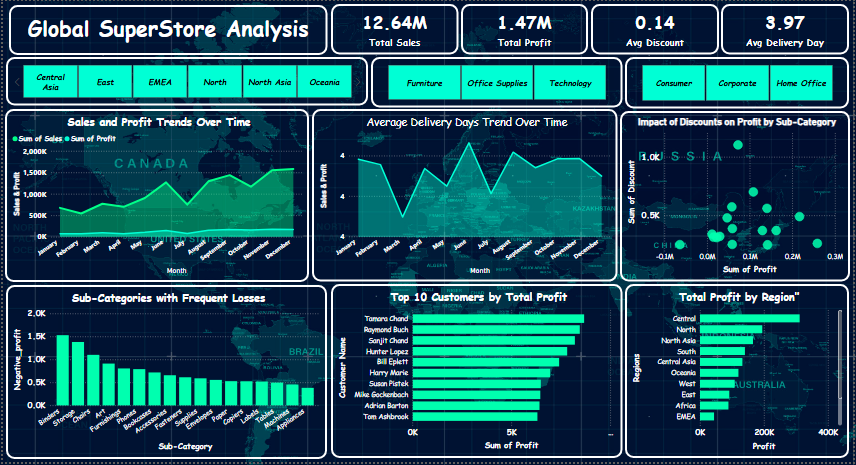

The page's visual inventory and layout, read from the dashboard file:
{"tool":"powerbi","page":{"name":"Page 1","canvas":[1700,921],"ordinal":0},"visuals":[{"type":"textbox","box":[11.2,7.5,636.7,100],"z":0},{"type":"card","fields":{"Values":["store.Total Sales"]},"box":[655,6,255,100.8],"z":1000},{"type":"areaChart","title":"Sales and Profit Trends Over Time","fields":{"Category":["store.Order Date.Variation.Date Hierarchy.Month"],"Y":["Sum(store.Sales)","Sum(store.Profit)"]},"box":[4,215,607.6,346],"z":2000},{"type":"barChart","title":"Total Profit by Region\"","fields":{"Category":["store.Region"],"Y":["Sum(store.Profit)"]},"box":[1243.9,565.6,448,348],"z":3000},{"type":"barChart","title":"Top 10 Customers by Total Profit","fields":{"Category":["store.Customer Name"],"Y":["Sum(store.Profit)"]},"box":[655.4,565.6,582.8,347.8],"z":4000},{"type":"columnChart","title":"Sub-Categories with Frequent Losses","fields":{"Category":["store.Sub-Category"],"Y":["store.Negative_profit"]},"box":[5.7,567,642,347.8],"z":5000},{"type":"scatterChart","title":"Impact of Discounts on Profit by Sub-Category","fields":{"X":["Sum(store.Profit)"],"Y":["Sum(store.Discount)"],"Category":["store.Sub-Category"]},"box":[1233,220,460,341],"z":6000},{"type":"slicer","fields":{"Values":["store.Region"]},"box":[5.7,112,724,97.5],"z":7000},{"type":"slicer","fields":{"Values":["store.Category"]},"box":[735,111,503,101],"z":8000},{"type":"slicer","fields":{"Values":["store.Segment"]},"box":[1243.6,112,448.1,102.7],"z":9000},{"type":"card","fields":{"Values":["store.Total Profit"]},"box":[916,6,253.9,100.8],"z":10000},{"type":"card","fields":{"Values":["store.Avg Discount"]},"box":[1176,6,255.8,100.8],"z":11000},{"type":"card","fields":{"Values":["store.Avg Delivery Day"]},"box":[1436,6,255.8,100.8],"z":12000},{"type":"areaChart","title":"Average Delivery Days Trend Over Time","fields":{"Category":["store.Order Date.Variation.Date Hierarchy.Month"],"Y":["store.Avg Delivery Day"]},"box":[617,215.9,611,345],"z":12001}]}

Visuals, with their boxes in screenshot pixels (x1, y1, x2, y2), scaled from the page's 1700x921 canvas onto the 856x465 screenshot:
textbox: region(6, 4, 326, 54)
card - store.Total Sales: region(330, 3, 458, 54)
"Sales and Profit Trends Over Time" areaChart: region(2, 109, 308, 283)
"Total Profit by Region"" barChart: region(626, 286, 852, 461)
"Top 10 Customers by Total Profit" barChart: region(330, 286, 623, 461)
"Sub-Categories with Frequent Losses" columnChart: region(3, 286, 326, 462)
"Impact of Discounts on Profit by Sub-Category" scatterChart: region(621, 111, 852, 283)
slicer - store.Region: region(3, 57, 367, 106)
slicer - store.Category: region(370, 56, 623, 107)
slicer - store.Segment: region(626, 57, 852, 108)
card - store.Total Profit: region(461, 3, 589, 54)
card - store.Avg Discount: region(592, 3, 721, 54)
card - store.Avg Delivery Day: region(723, 3, 852, 54)
"Average Delivery Days Trend Over Time" areaChart: region(311, 109, 618, 283)
